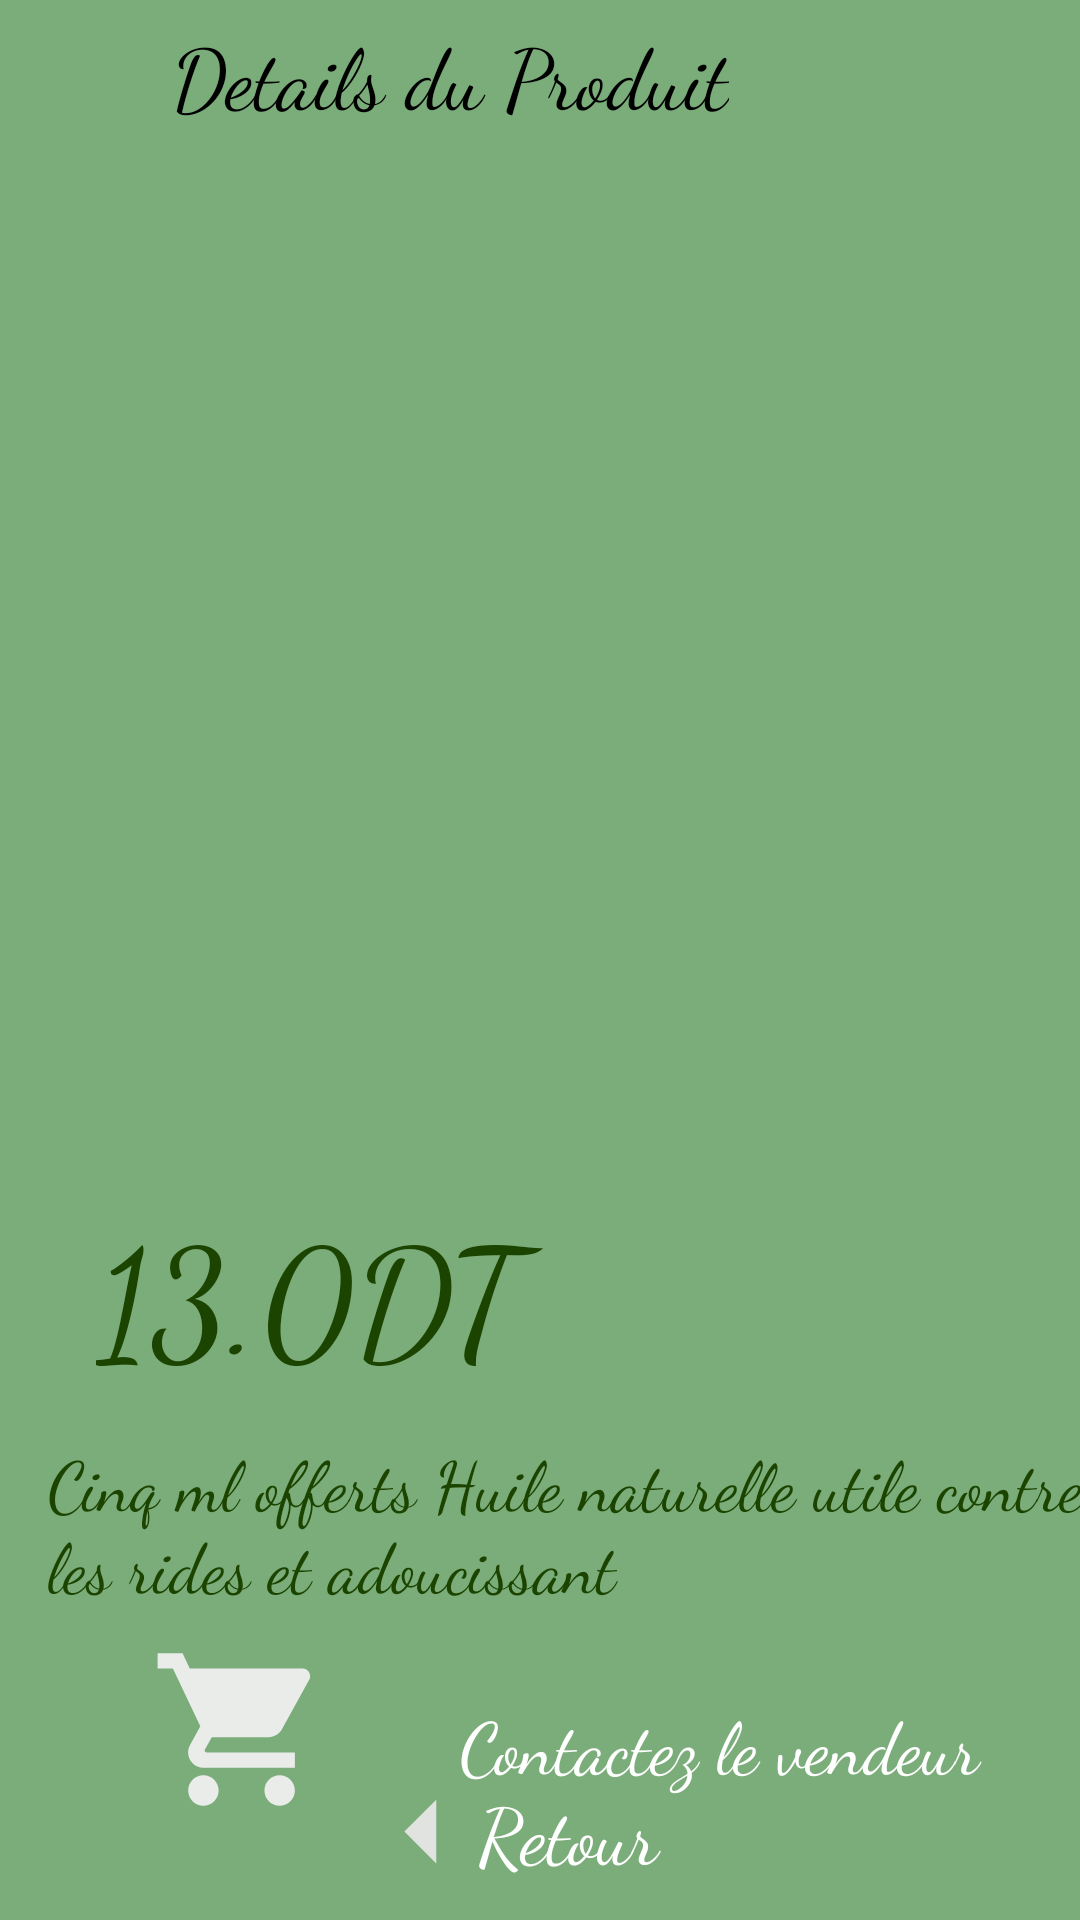

Where icons sit on this 1080 x 1920 app screen, as (x1, y1, x2, y2):
shoppnow: (157, 1653, 310, 1806)
